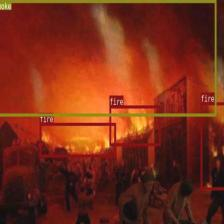fire: (39, 122, 116, 157), (200, 102, 224, 190), (110, 104, 160, 146)
smoke: (0, 0, 216, 116)
